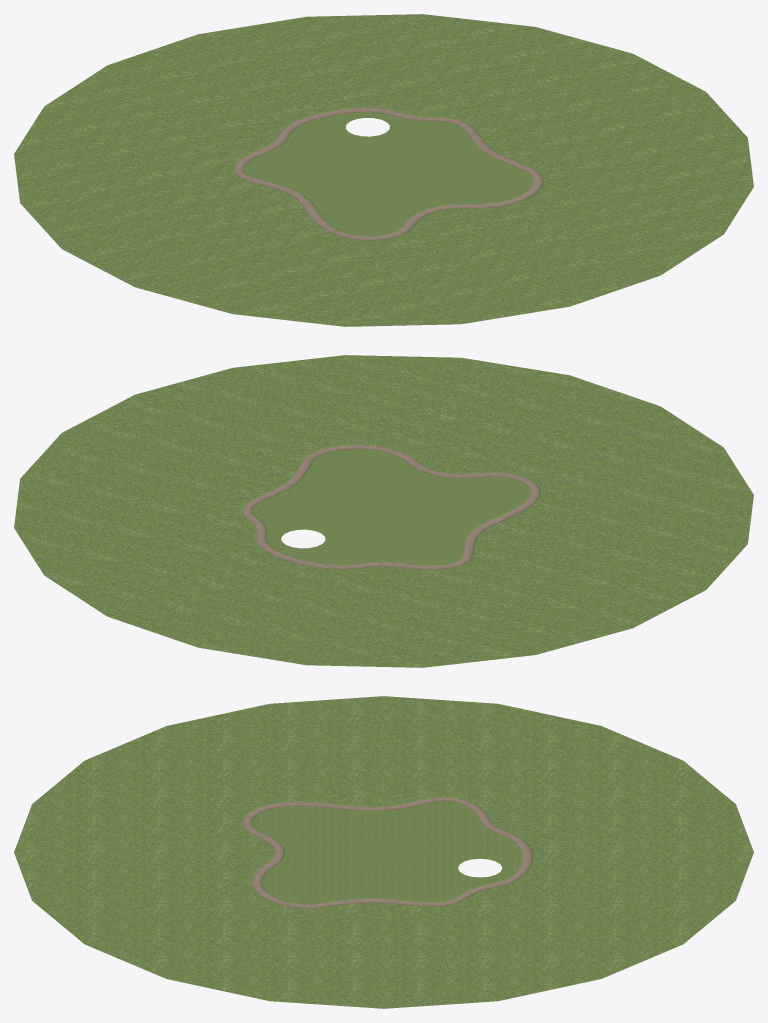
The model's file is gGROUND_uvchannel.obj.
3 renders of one model, top to bottom at view 1: azimuth 30°, elevation 25°; view 2: azimuth 150°, elevation 25°; view 3: azimuth 270°, elevation 25°, orthographic.
Visible parts, largest first — view 1: pCylinder6_0, polySurface3_0, nurbsToPoly3_0, polySurface150_0; view 2: pCylinder6_0, polySurface3_0, nurbsToPoly3_0, polySurface150_0; view 3: pCylinder6_0, polySurface3_0, nurbsToPoly3_0, polySurface150_0.
Boxes of the visible parts, x1,y1,x2,y2 form: pCylinder6_0: [14, 14, 753, 326]; polySurface3_0: [243, 112, 532, 235]; nurbsToPoly3_0: [233, 107, 543, 240]; polySurface150_0: [351, 156, 416, 184]; pCylinder6_0: [14, 355, 753, 667]; polySurface3_0: [253, 449, 530, 564]; nurbsToPoly3_0: [242, 444, 540, 569]; polySurface150_0: [351, 497, 416, 525]; pCylinder6_0: [14, 696, 753, 1008]; polySurface3_0: [252, 801, 521, 903]; nurbsToPoly3_0: [242, 796, 533, 908]; polySurface150_0: [351, 838, 416, 866].
Bounding box in the file's own units: 5000 × 3.17 × 5000.
